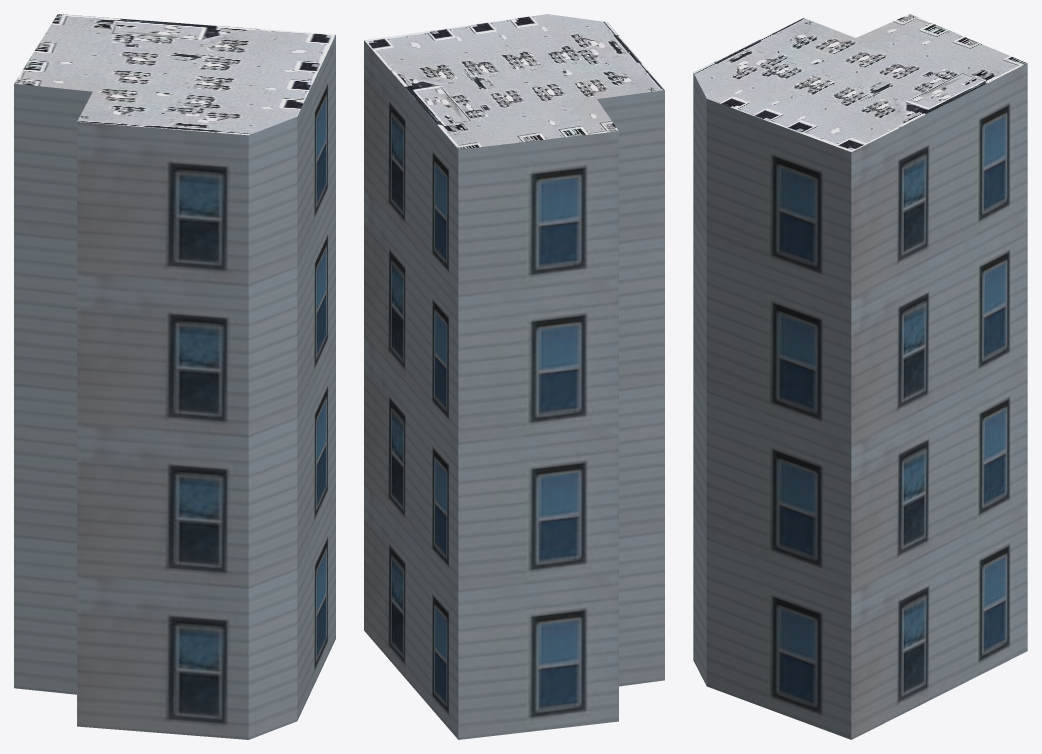
Rendered from ResTex__2303.fbx.
The picture shows the model from 3 angles, left to right: view 1: azimuth 30°, elevation 25°; view 2: azimuth 150°, elevation 25°; view 3: azimuth 270°, elevation 25°; orthographic projection. The views are drawn at different scales.
Visible parts, largest first — view 1: CityEngineMaterial_18_m, CityEngineMaterial_4_m; view 2: CityEngineMaterial_18_m, CityEngineMaterial_4_m; view 3: CityEngineMaterial_18_m, CityEngineMaterial_4_m.
Part boxes in pixels (x1=…): CityEngineMaterial_18_m: x1=14, y1=35, x2=335, y2=739; CityEngineMaterial_4_m: x1=14, y1=14, x2=335, y2=135; CityEngineMaterial_18_m: x1=364, y1=40, x2=664, y2=739; CityEngineMaterial_4_m: x1=364, y1=14, x2=664, y2=149; CityEngineMaterial_18_m: x1=693, y1=63, x2=1027, y2=739; CityEngineMaterial_4_m: x1=693, y1=14, x2=1027, y2=151.
Bounding box in the file's own units: 6.05 × 12 × 6.19.
Materials: 2 (2 with a texture image).
